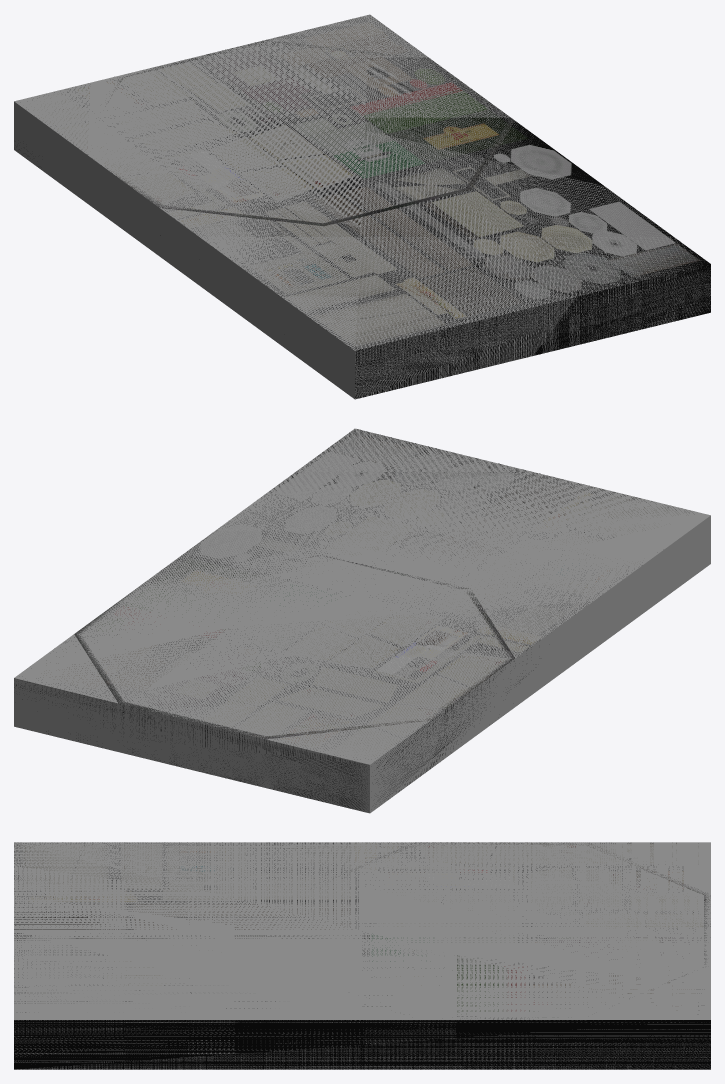
File: pan.FBX
3 views of the same model, one above another, from view 1: azimuth 30°, elevation 25°; view 2: azimuth 150°, elevation 25°; view 3: azimuth 270°, elevation 25° (orthographic). The views are drawn at different scales.
Visible parts, largest first — view 1: bounds, colbox-1, pan100; view 2: bounds, colbox-1, pan100; view 3: bounds, colbox-1, pan100.
Part boxes in pixels (x1,y1,x2,y2): bounds: [14, 14, 710, 399]; colbox-1: [19, 15, 710, 399]; pan100: [105, 40, 514, 226]; bounds: [14, 428, 710, 813]; colbox-1: [14, 429, 676, 810]; pan100: [74, 555, 514, 739]; bounds: [14, 842, 710, 1069]; colbox-1: [14, 842, 710, 1069]; pan100: [291, 842, 710, 1018].
Bounding box in the file's own units: 34.16 × 4.46 × 56.66.
